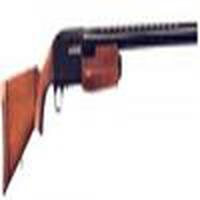gun: (1, 27, 200, 188)
